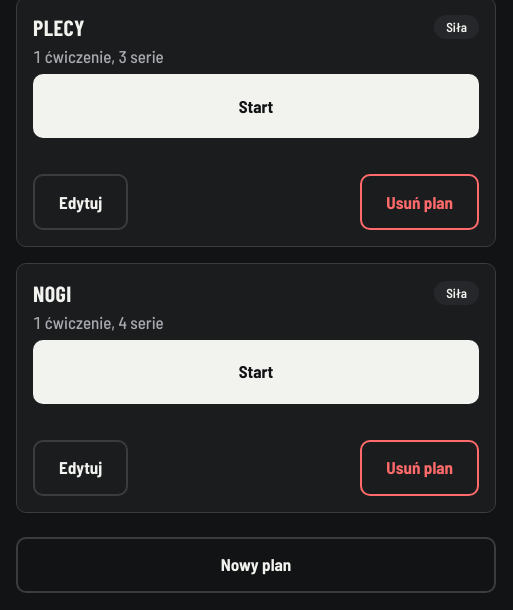
Scenario: Start with three saved plans › starts the plan of the tapped card: Start: Nogi
The image size is (513, 610).
(page scrolled)
Step 1. Click the button "Start" below "Nogi" → {"x": 256, "y": 372}, box x1=33 y1=340 x2=479 y2=404
(page scrolled)
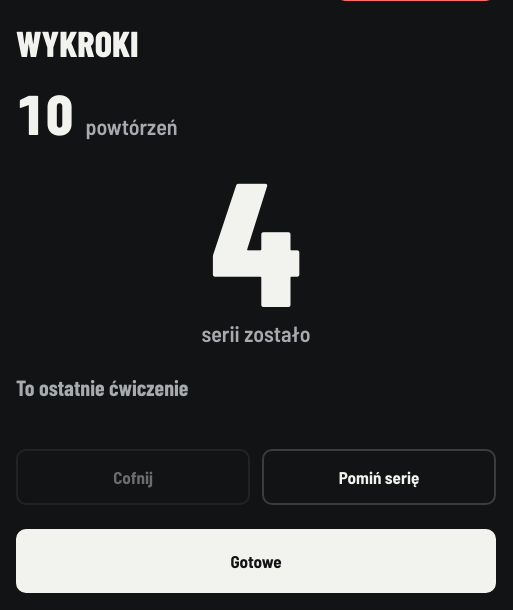
Result: the heading "Wykroki" is shown at x1=16 y1=21 x2=138 y2=64
